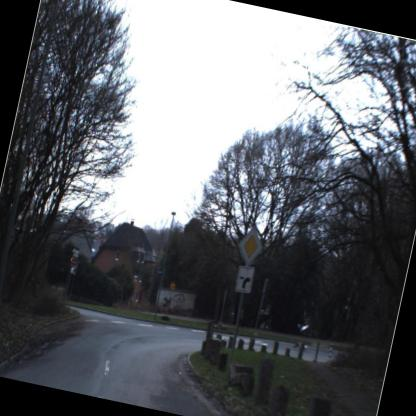other: (226, 219, 272, 274)
